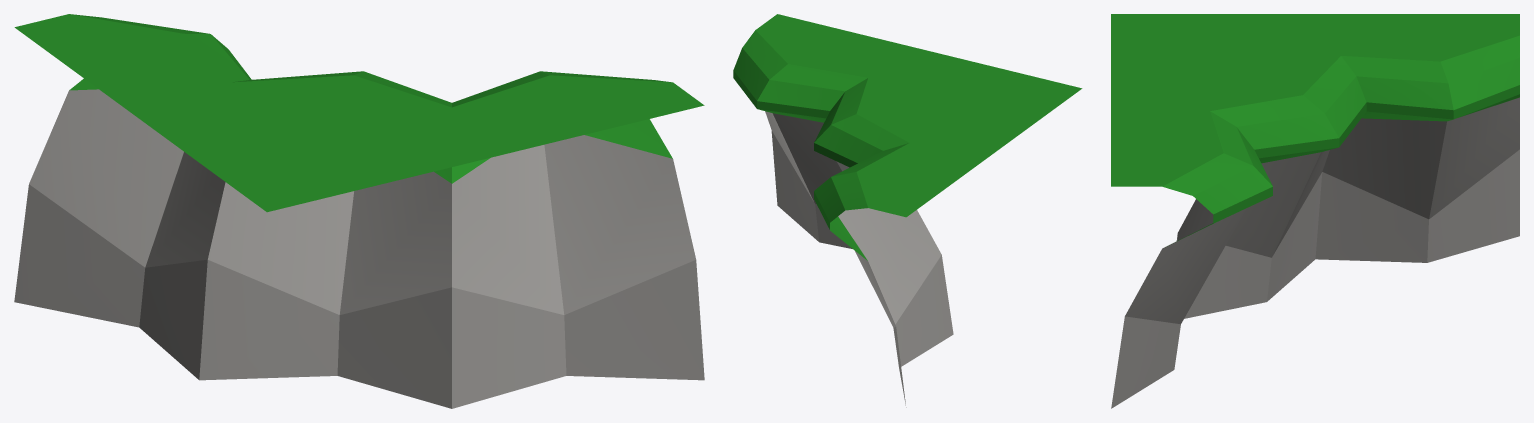
Rendered from Cliff_Terrain_Corner_Inner_2x2_Top.obj.
3 views of the same model, side by side, from view 1: azimuth 30°, elevation 25°; view 2: azimuth 150°, elevation 25°; view 3: azimuth 270°, elevation 25° (orthographic). The views are drawn at different scales.
Parts seen in each view (by area): view 1: object1; view 2: object1; view 3: object1.
Boxes of the visible parts, left/top/right/bottom form: object1: left=14, top=14, right=704, bottom=408; object1: left=733, top=14, right=1082, bottom=407; object1: left=1111, top=14, right=1519, bottom=408.
Bounding box in the file's own units: 2 × 1.2 × 2.
